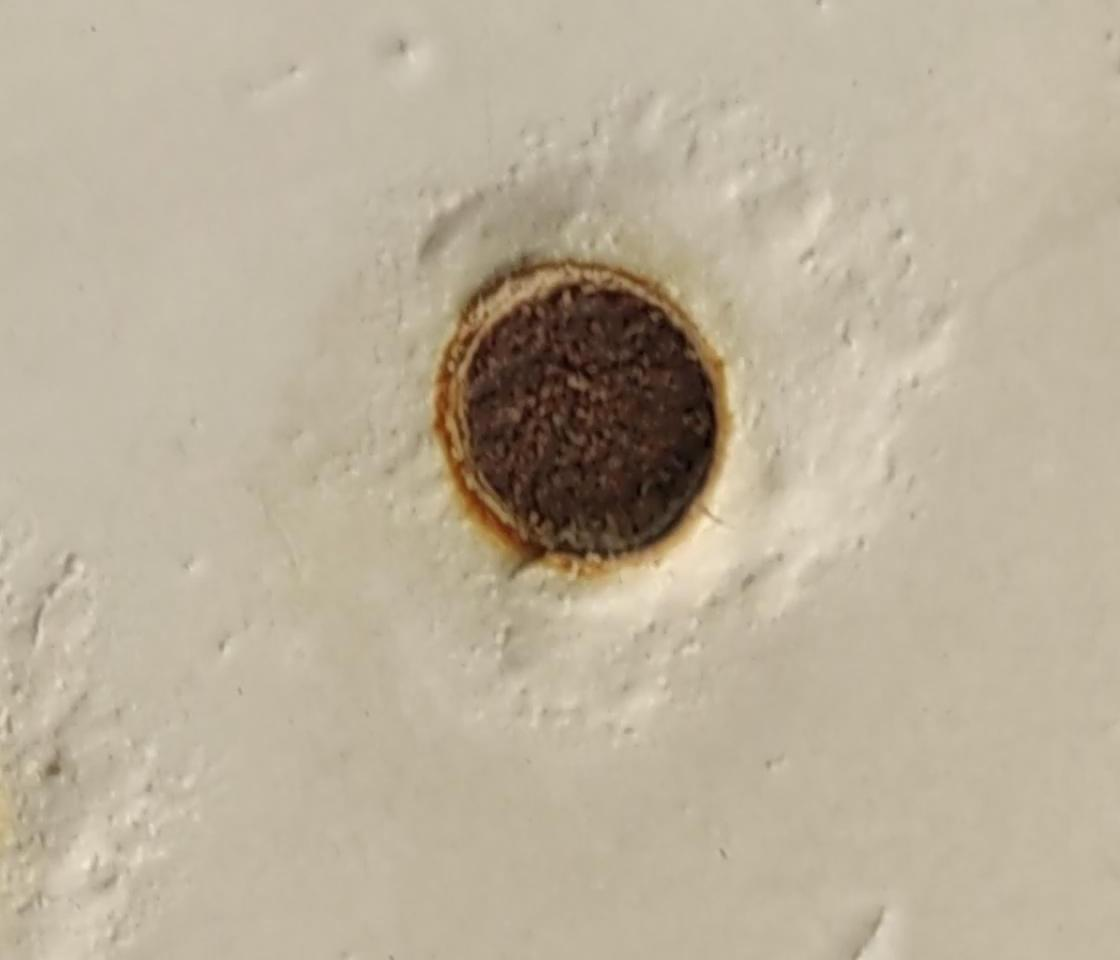rust: (438, 271, 708, 559)
